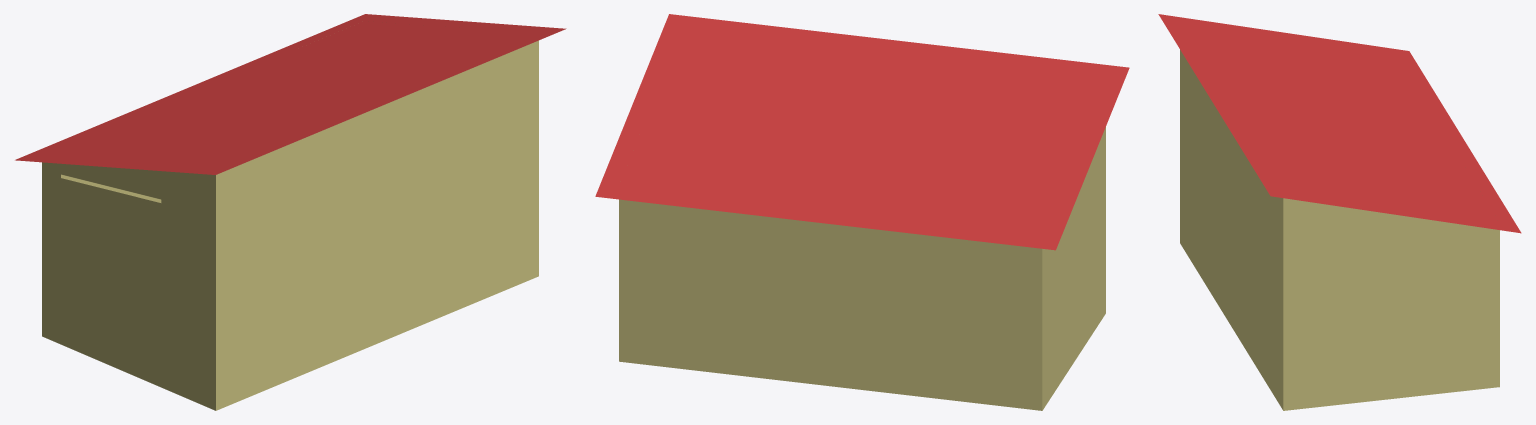
3 renders of one model, left to right at view 1: azimuth 30°, elevation 25°; view 2: azimuth 150°, elevation 25°; view 3: azimuth 270°, elevation 25°, orthographic. The views are drawn at different scales.
Bounding box in the file's own units: 13.84 × 10.13 × 6.88.
